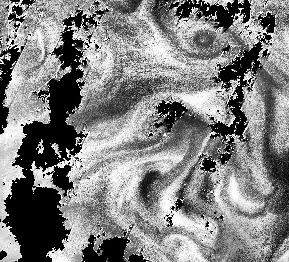CE: (163, 11, 242, 63)
